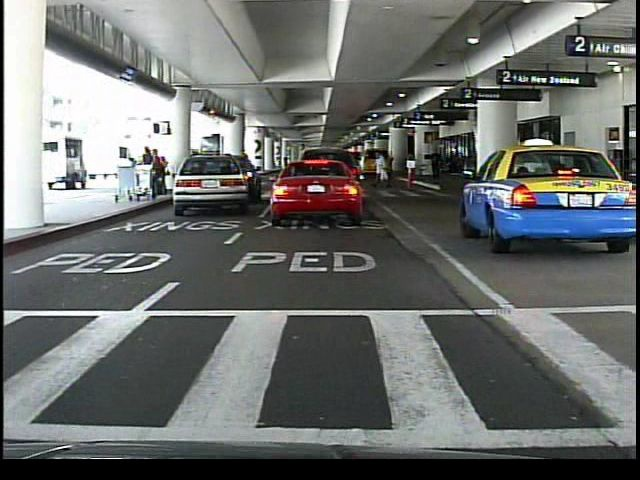person: (235, 145, 255, 202), (274, 156, 292, 206), (146, 147, 161, 198), (295, 150, 309, 203), (374, 150, 389, 189), (429, 150, 444, 185)
